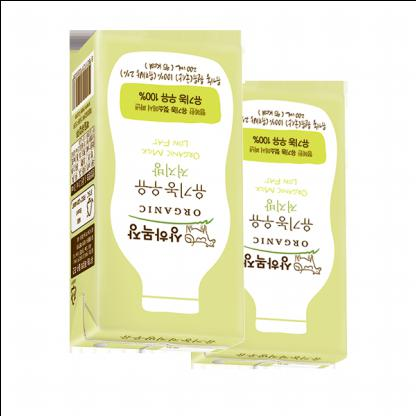tetra: (53, 16, 259, 364)
